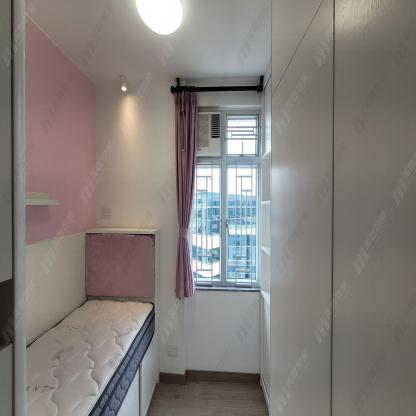AC: (195, 111, 221, 158)
Bed: (26, 225, 159, 416)
Closet: (269, 0, 416, 416)
